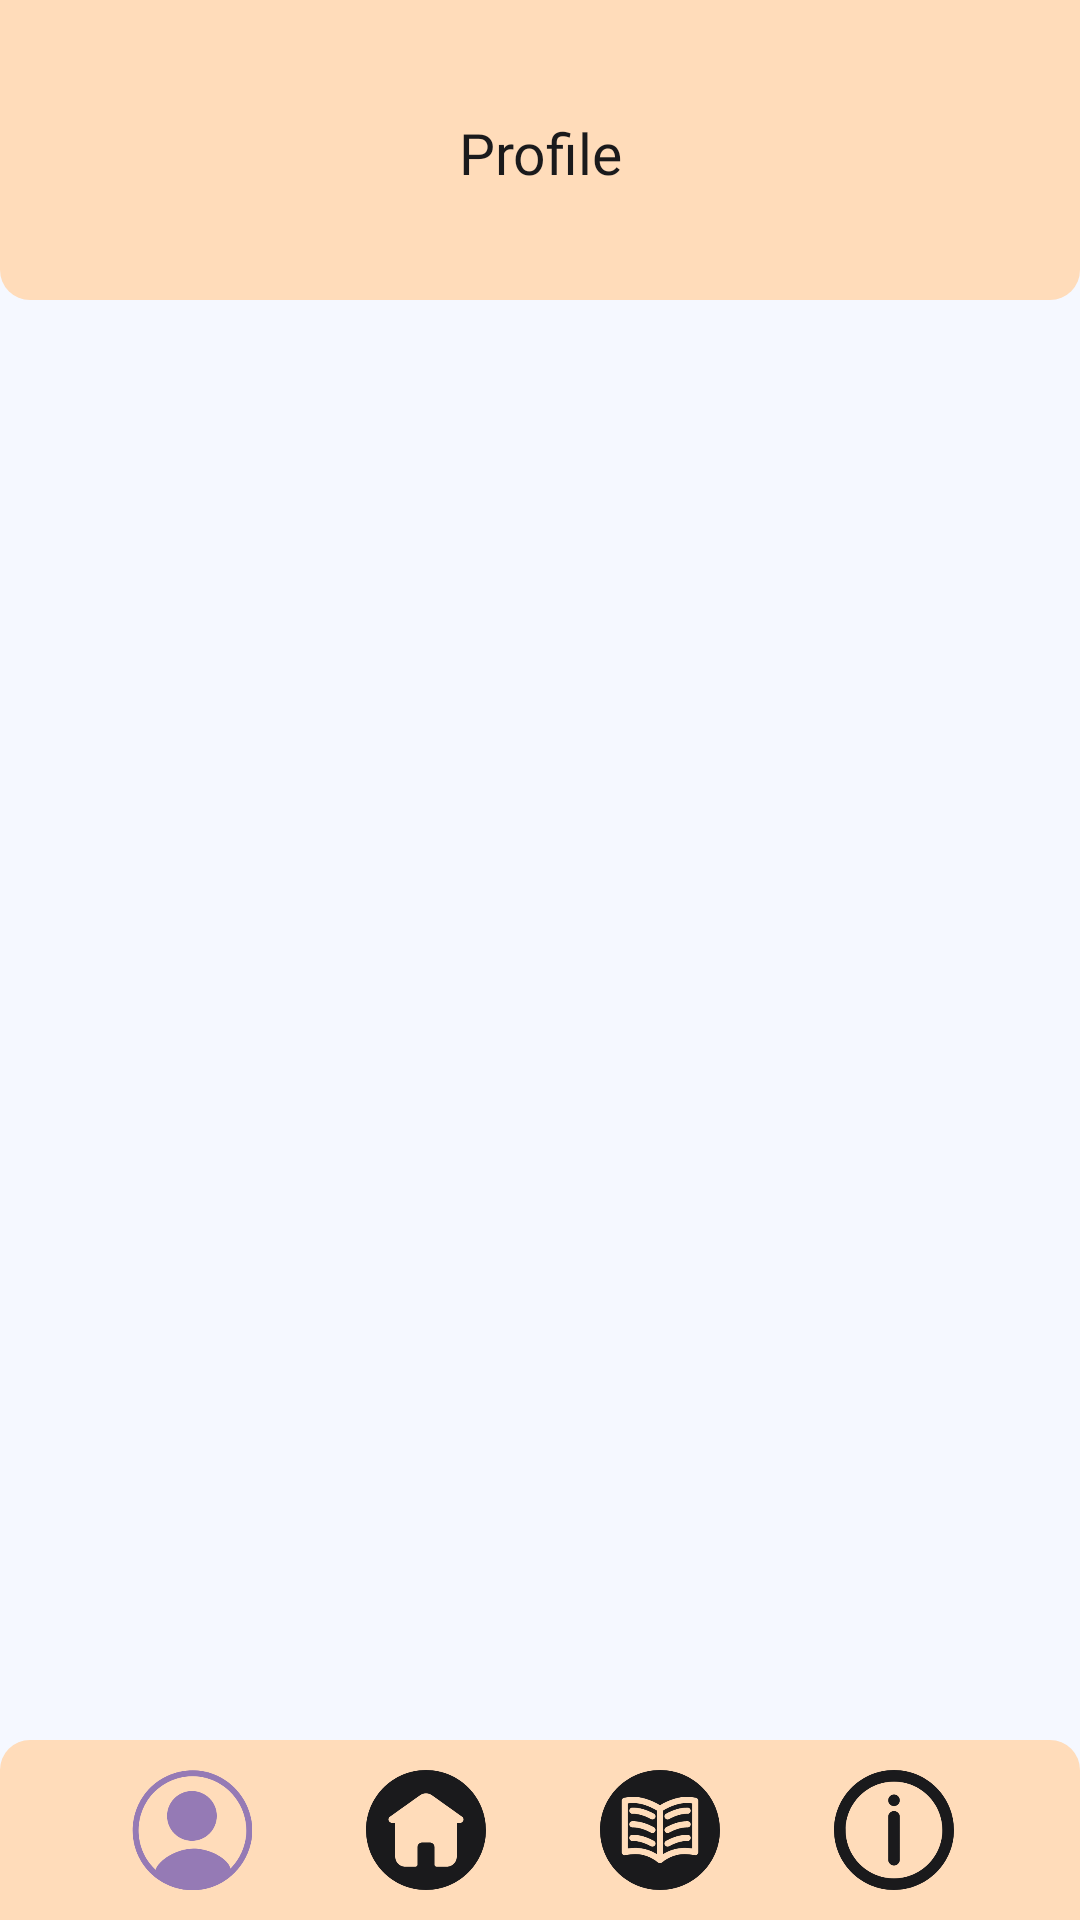

Icons on this 1080px x 1920px Android screen, each with its box as (x1, y1, x2, y2):
home: (366, 1770, 486, 1890)
info: (834, 1770, 954, 1890)
profile: (132, 1770, 252, 1890)
